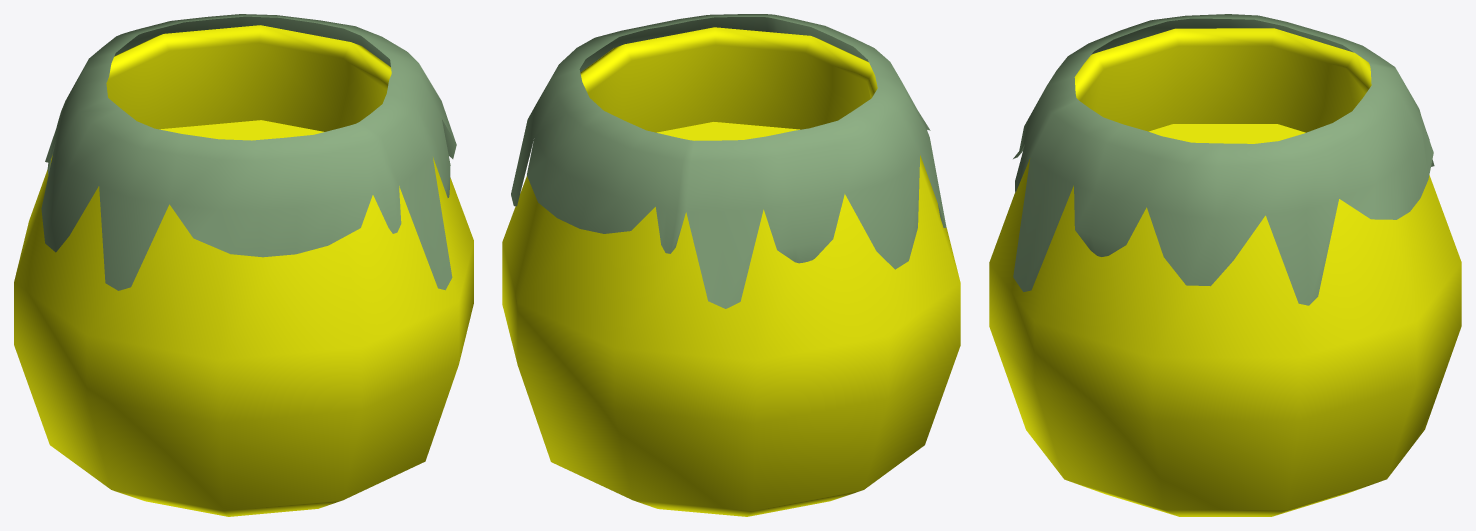
The model's file is Pot_2.fbx.
3 renders of one model, left to right at view 1: azimuth 30°, elevation 25°; view 2: azimuth 150°, elevation 25°; view 3: azimuth 270°, elevation 25°, orthographic.
Visible parts, largest first — view 1: Pot_2; view 2: Pot_2; view 3: Pot_2.
Part boxes in pixels (x1,y1,x2,y2): Pot_2: (14, 14, 473, 516); Pot_2: (502, 14, 960, 516); Pot_2: (989, 14, 1461, 516).
Bounding box in the file's own units: 46.4 × 43.01 × 48.76.
